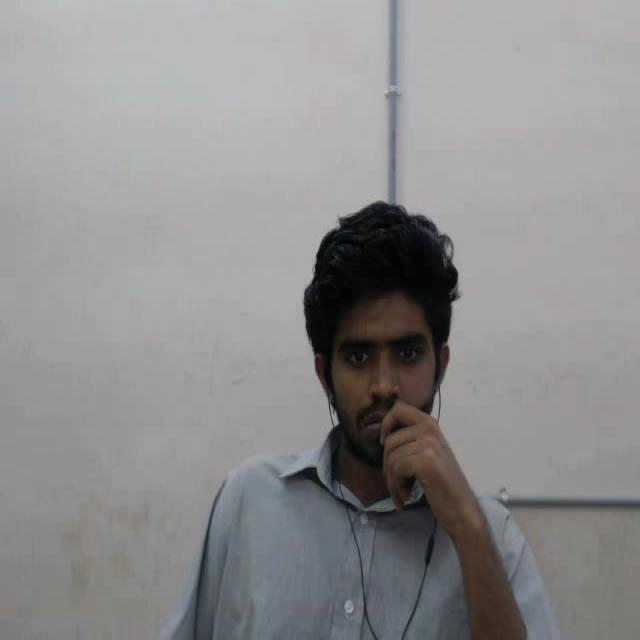Bored: (286, 184, 492, 491)
